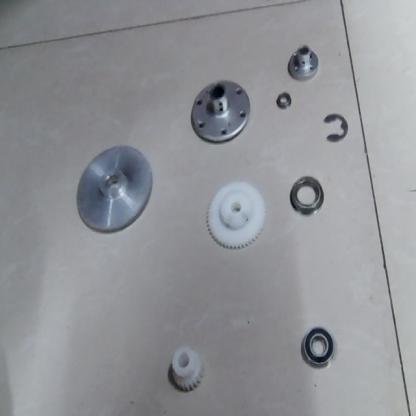FOD: (70, 142, 155, 236), (203, 178, 269, 252), (189, 74, 252, 149), (164, 342, 206, 390), (288, 170, 328, 218), (299, 324, 337, 368), (286, 42, 322, 82), (323, 108, 350, 148), (272, 86, 296, 112)
